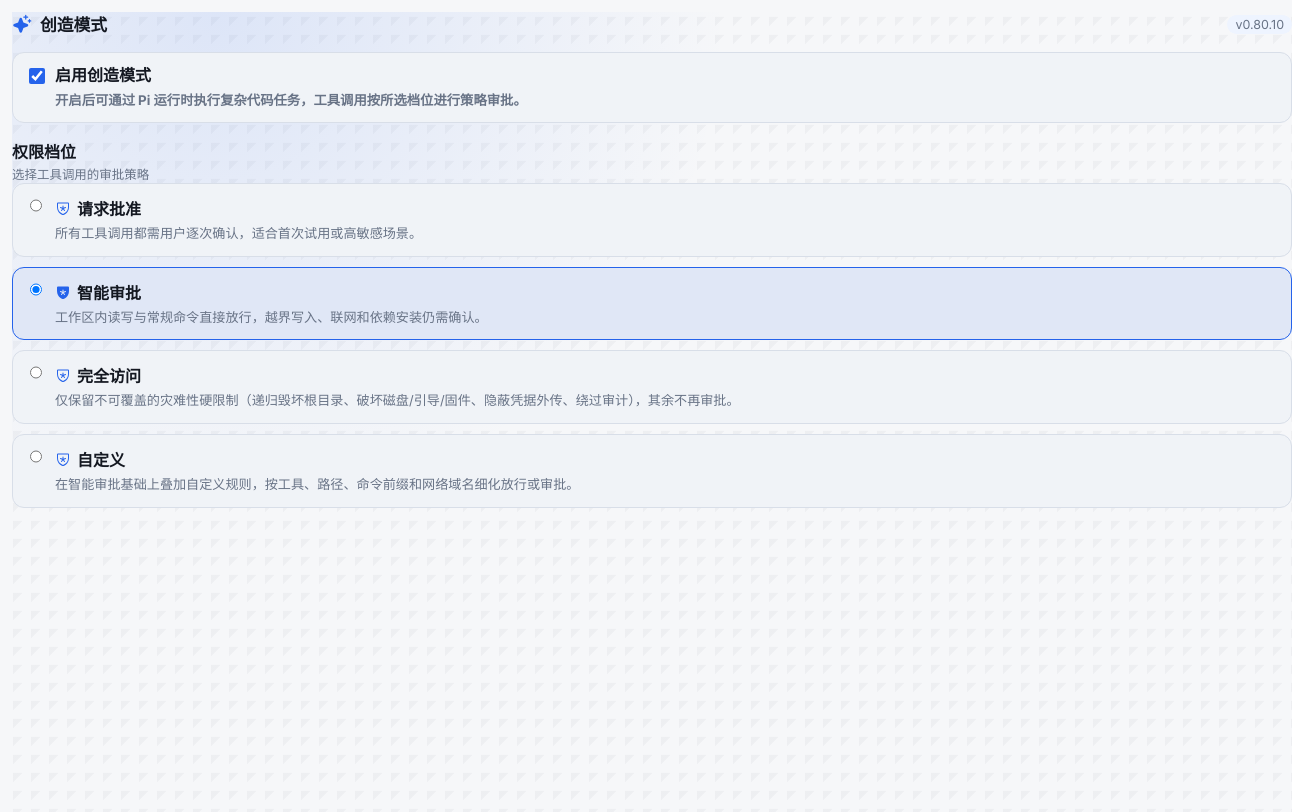
Test: CreativeModeSettings permission profiles › selecting full access shows catastrophic hard blocks without routine approvals
Expected: the text "创造模式" is shown, x1=40 y1=12 x2=107 y2=36
Click the radio button labelled "完全访问 仅保留不可覆盖的灾难性硬限制（递归毁坏根目录、破坏磁盘/引导/固件、隐蔽凭据外传、绕过审计），其余不再审批。": (36, 373) x1=30 y1=366 x2=42 y2=379
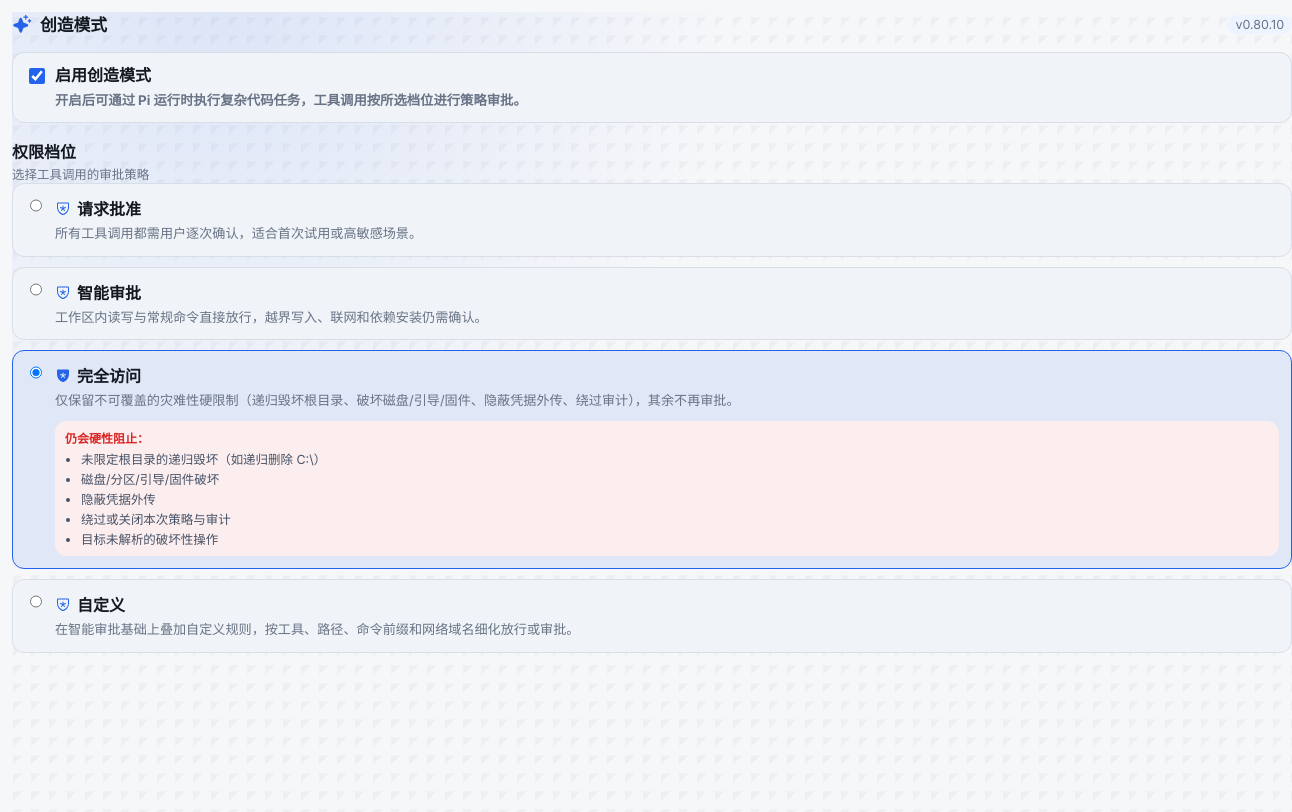
Expected: the text "仅保留不可覆盖的灾难性硬限制（递归毁坏根目录、破坏磁盘/引导/固件、隐蔽凭据外传、绕过审计），其余不再审批。" is shown, x1=55 y1=392 x2=740 y2=408
Result: the list item "磁盘/分区/引导/固件破坏" is shown at x1=81 y1=472 x2=219 y2=487
Result: the element with class "creative-hard-blocks" is shown at x1=55 y1=421 x2=1279 y2=556
